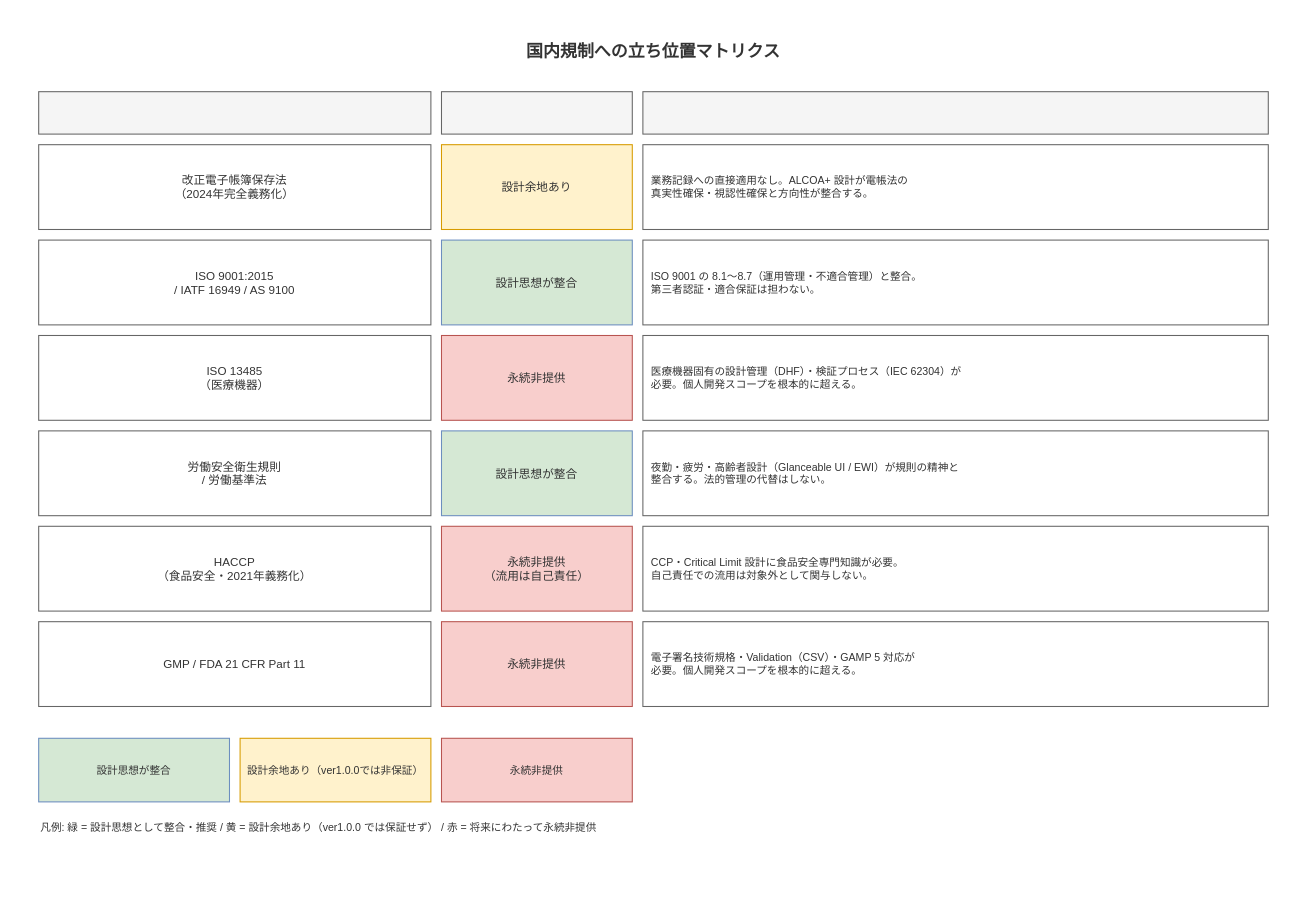
Image size: 1307x904. Some labels were removed from this diagram. The shapes that lost their labels are listed below. From the top down, each one's box as (x1, y1, x2, y2) in pixels, then its label:
(38, 91, 431, 134): 規制・基準
(440, 91, 632, 134): 立場
(642, 91, 1268, 134): 備考
